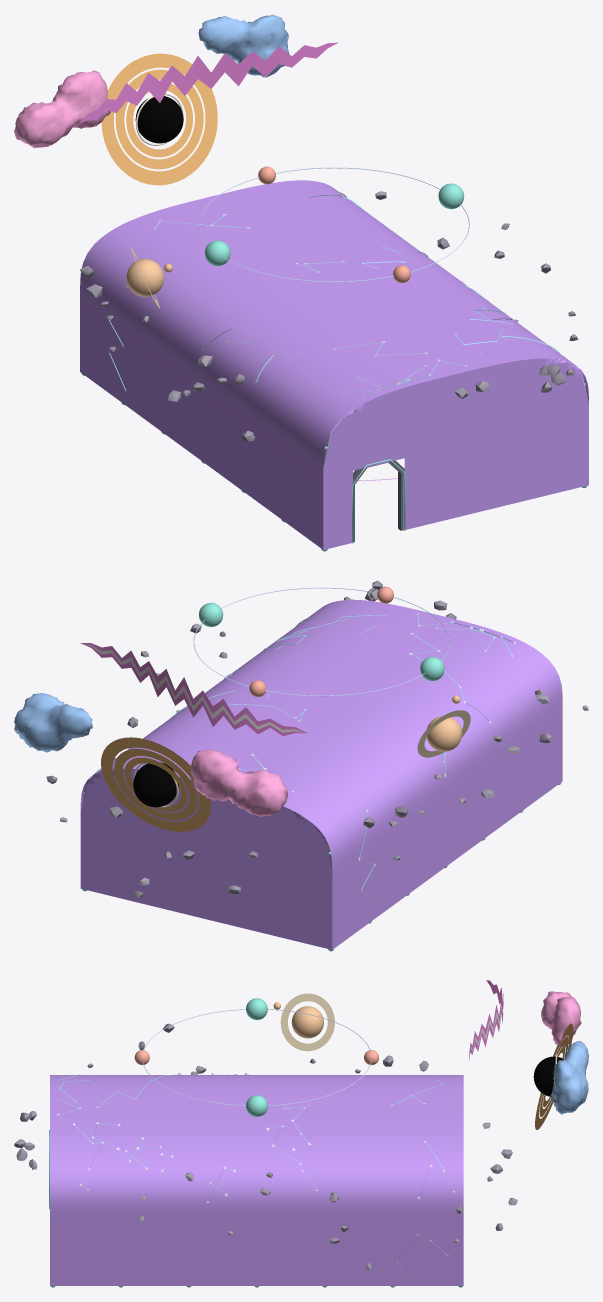
Rendered from CosmicRiftCage.fbx.
3 views of the same model, one above another, from view 1: azimuth 30°, elevation 25°; view 2: azimuth 150°, elevation 25°; view 3: azimuth 270°, elevation 25° (orthographic). The views are drawn at different scales.
Parts seen in each view (by area): view 1: CosmicField, CosmicAccretion, CosmicNebulaPink, CosmicRiftTear, CosmicNebulaBlue, CosmicAsteroids, CosmicVoid, CosmicConstellations, CosmicPlanet, CosmicOrbitA, CosmicOrbitPath, CosmicDoorway; view 2: CosmicField, CosmicAccretion, CosmicNebulaPink, CosmicNebulaBlue, CosmicRiftTear, CosmicAsteroids, CosmicVoid, CosmicConstellations, CosmicRiftCore, CosmicPlanet, CosmicOrbitA, CosmicOrbitPath (+1 smaller); view 3: CosmicField, CosmicNebulaBlue, CosmicAsteroids, CosmicNebulaPink, CosmicPlanetRings, CosmicPlanet, CosmicOrbitA, CosmicConstellations, CosmicAccretion, CosmicRiftTear, CosmicVoid, CosmicOrbitPath.
Part boxes in pixels (x1,y1,x2,y2): CosmicField: (80,180,588,549); CosmicAccretion: (101,53,217,185); CosmicNebulaPink: (14,70,110,148); CosmicRiftTear: (79,42,338,123); CosmicNebulaBlue: (198,14,289,77); CosmicAsteroids: (80,191,578,441); CosmicVoid: (135,96,183,143); CosmicConstellations: (107,191,559,396); CosmicPlanet: (126,259,172,296); CosmicOrbitA: (205,183,464,266); CosmicOrbitPath: (199,167,469,282); CosmicDoorway: (353,460,404,542); CosmicField: (80,599,562,949); CosmicAccretion: (101,737,210,831); CosmicNebulaPink: (191,750,287,816); CosmicNebulaBlue: (14,693,92,752); CosmicRiftTear: (80,643,307,735); CosmicAsteroids: (46,580,588,899); CosmicVoid: (133,762,178,807); CosmicConstellations: (94,614,513,903); CosmicRiftCore: (81,643,306,733); CosmicPlanet: (426,695,461,751); CosmicOrbitA: (199,602,444,680); CosmicOrbitPath: (193,587,449,696); CosmicField: (50,1075,463,1285); CosmicNebulaBlue: (552,1041,588,1114); CosmicAsteroids: (14,1023,517,1269); CosmicNebulaPink: (541,991,581,1047); CosmicPlanetRings: (280,993,334,1051); CosmicPlanet: (273,1002,323,1038); CosmicOrbitA: (246,998,267,1116); CosmicConstellations: (58,1074,453,1271); CosmicAccretion: (535,1023,573,1129); CosmicRiftTear: (469,980,503,1060); CosmicVoid: (533,1056,563,1096); CosmicOrbitPath: (142,1009,371,1105).
Bounding box in the file's own units: 1073 × 757 × 1693.
